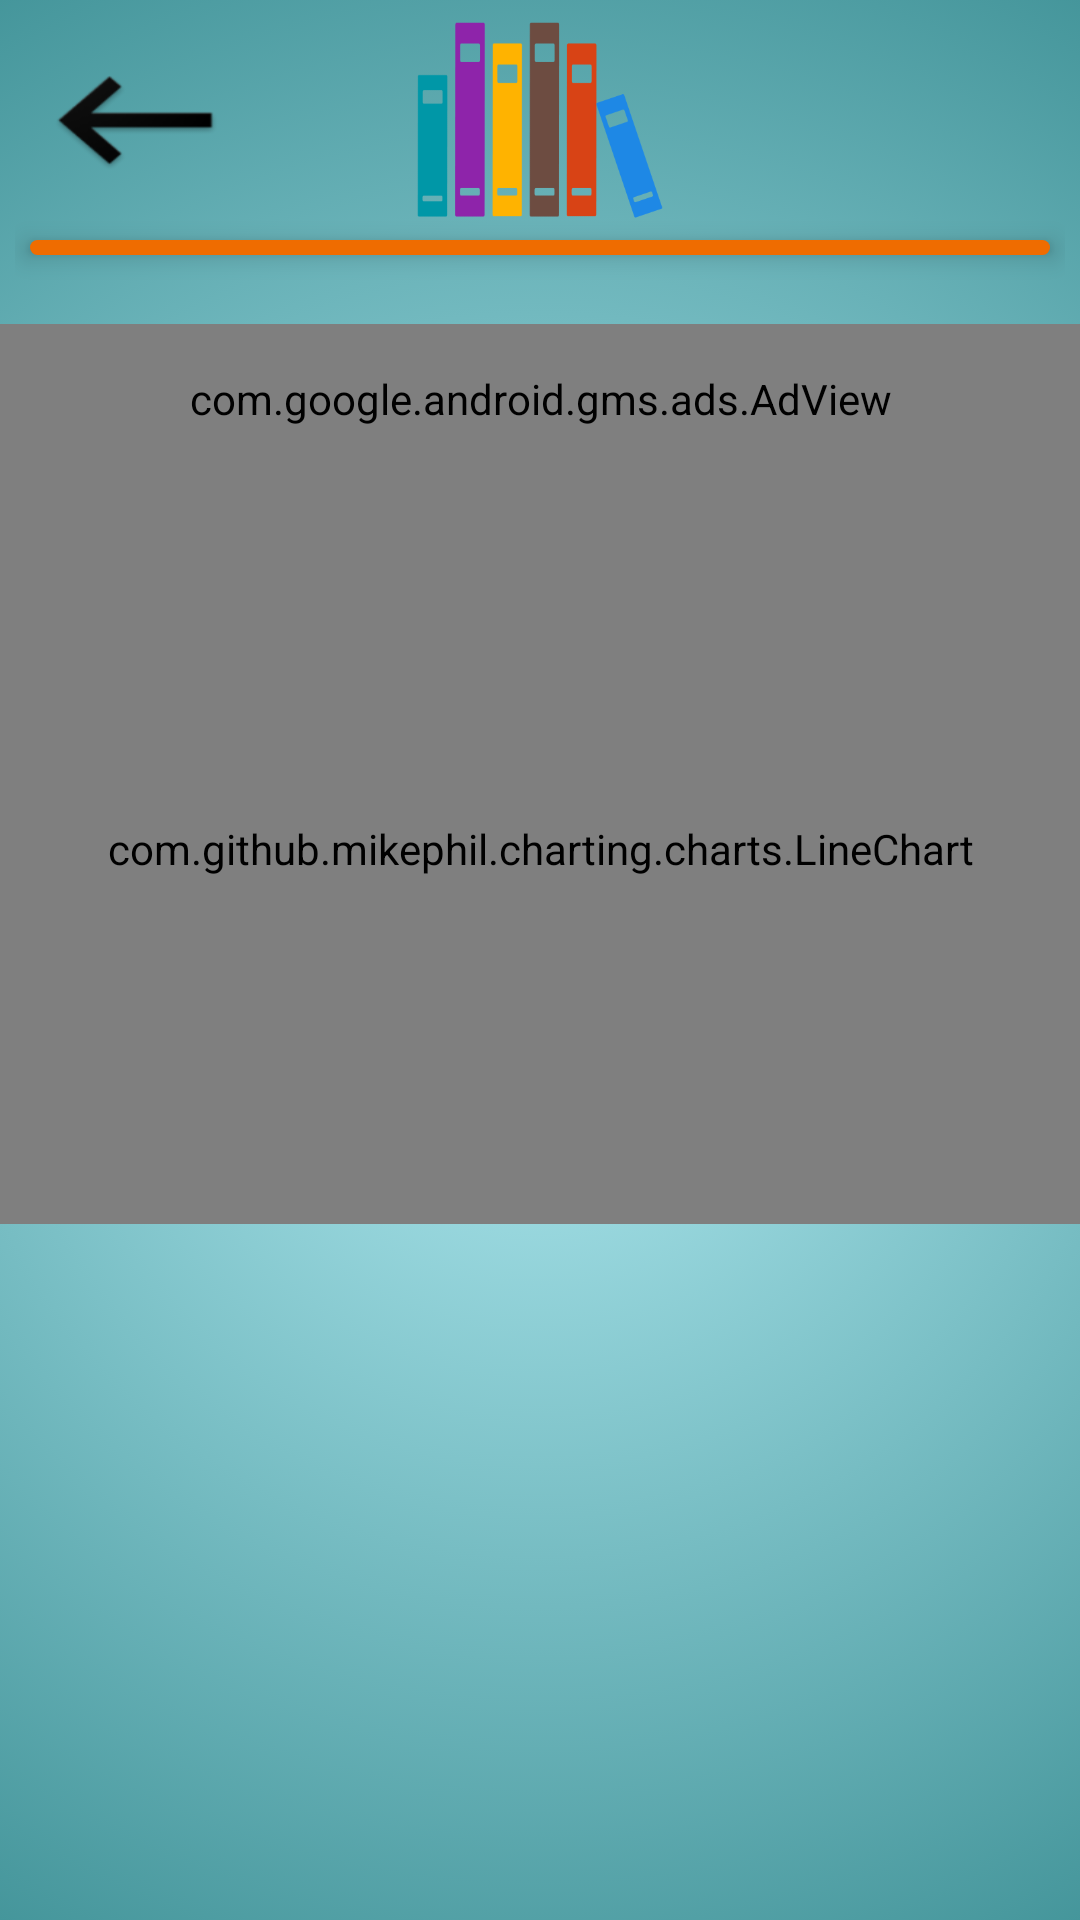

Where to tap for icons on this 1080 × 1920 app screen, as point (x, y):
graphic book: point (540, 120)
